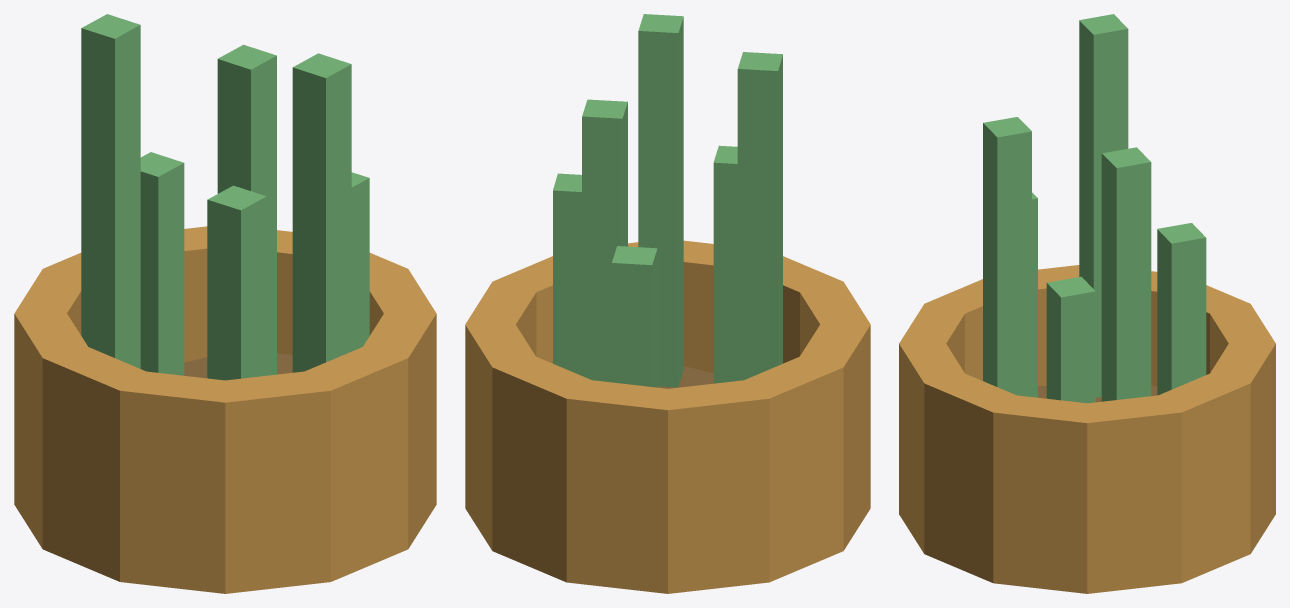
Rendered from plant_1.glb.
The picture shows the model from 3 angles, left to right: view 1: azimuth 30°, elevation 25°; view 2: azimuth 150°, elevation 25°; view 3: azimuth 270°, elevation 25°; orthographic projection. The views are drawn at different scales.
Parts seen in each view (by area): view 1: Mesh_Mesh_head_geo.001_lambert2SG.001; view 2: Mesh_Mesh_head_geo.001_lambert2SG.001; view 3: Mesh_Mesh_head_geo.001_lambert2SG.001.
Part boxes in pixels (x1=…): Mesh_Mesh_head_geo.001_lambert2SG.001: x1=14, y1=14, x2=436, y2=593; Mesh_Mesh_head_geo.001_lambert2SG.001: x1=465, y1=14, x2=870, y2=593; Mesh_Mesh_head_geo.001_lambert2SG.001: x1=899, y1=14, x2=1275, y2=593.
Size of the model in its own units: 1 by 1.3 by 1.
